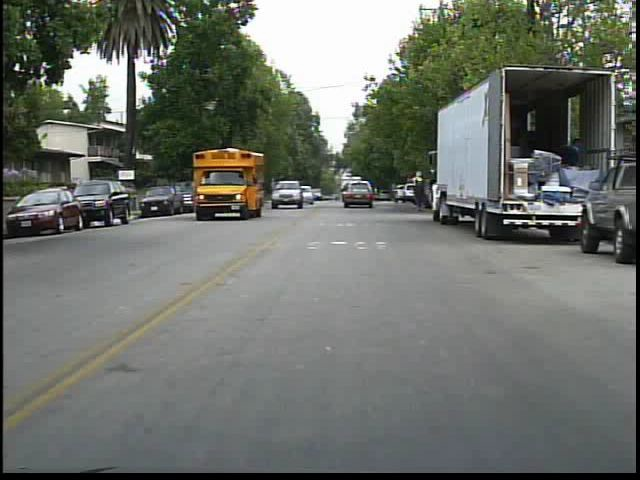person: (408, 174, 430, 220)
